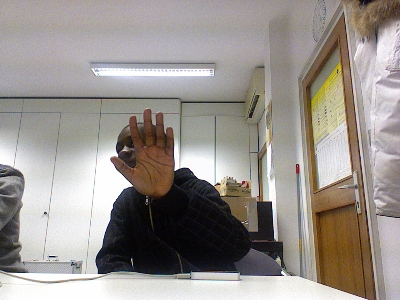布: (109, 106, 176, 196)
